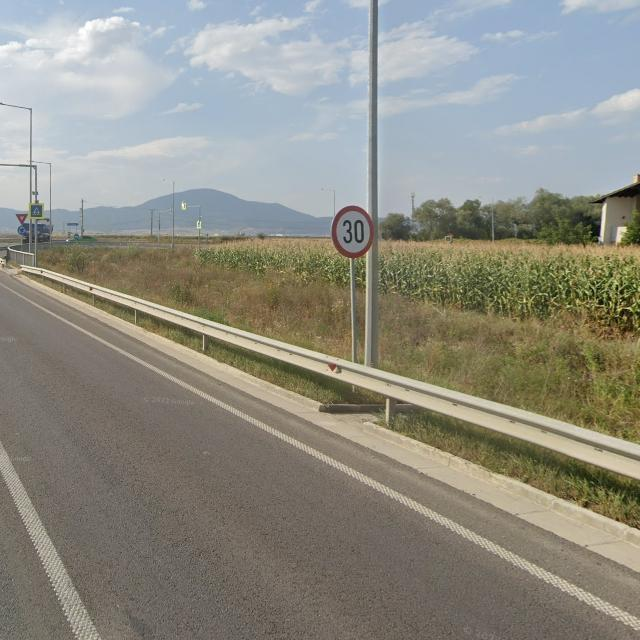forb_speed_over_30: (330, 206, 375, 258)
